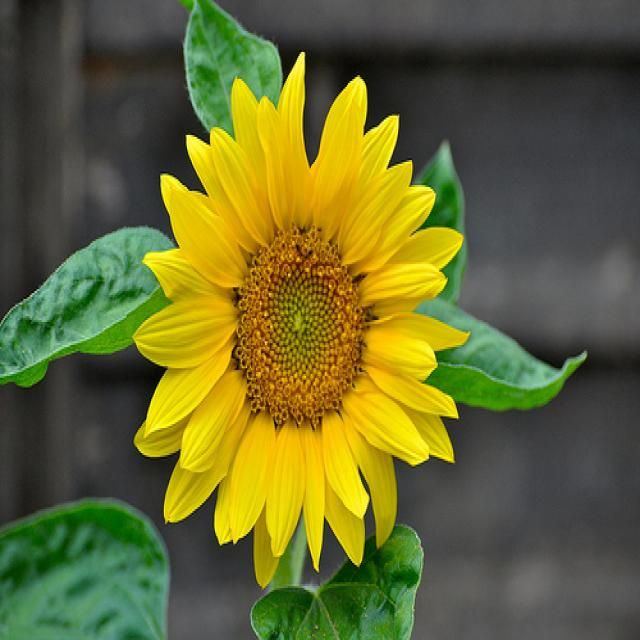sunflower: (131, 51, 469, 597)
